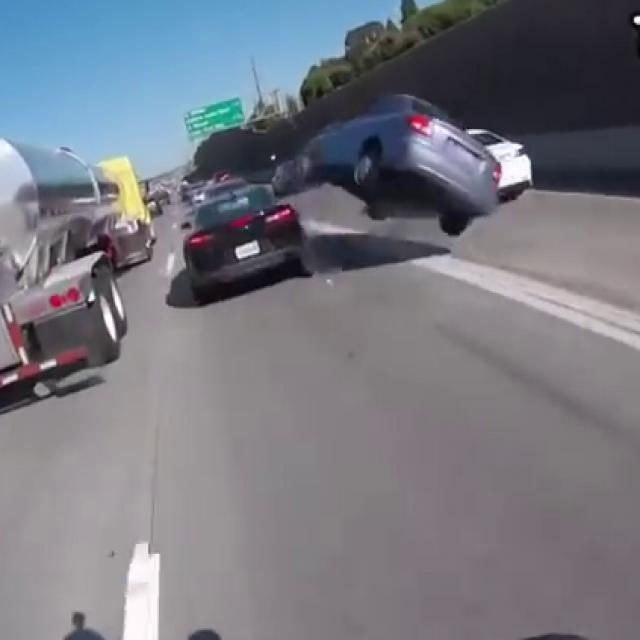accident: (295, 81, 510, 253)
